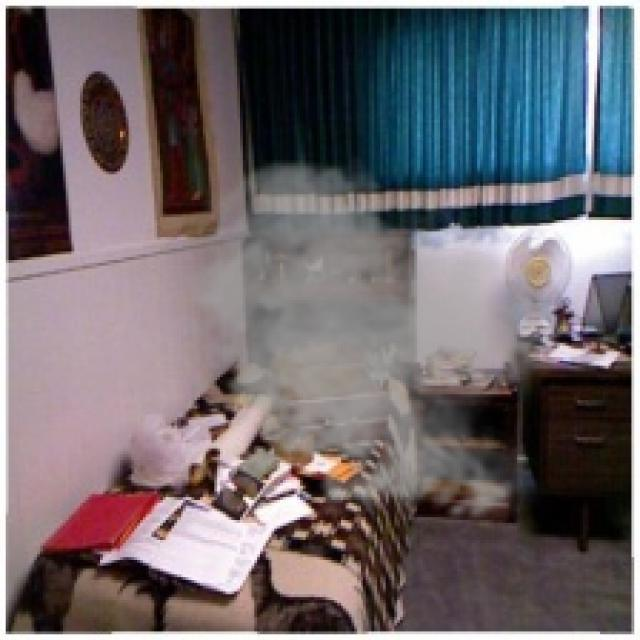Smoke: (175, 152, 560, 532)
